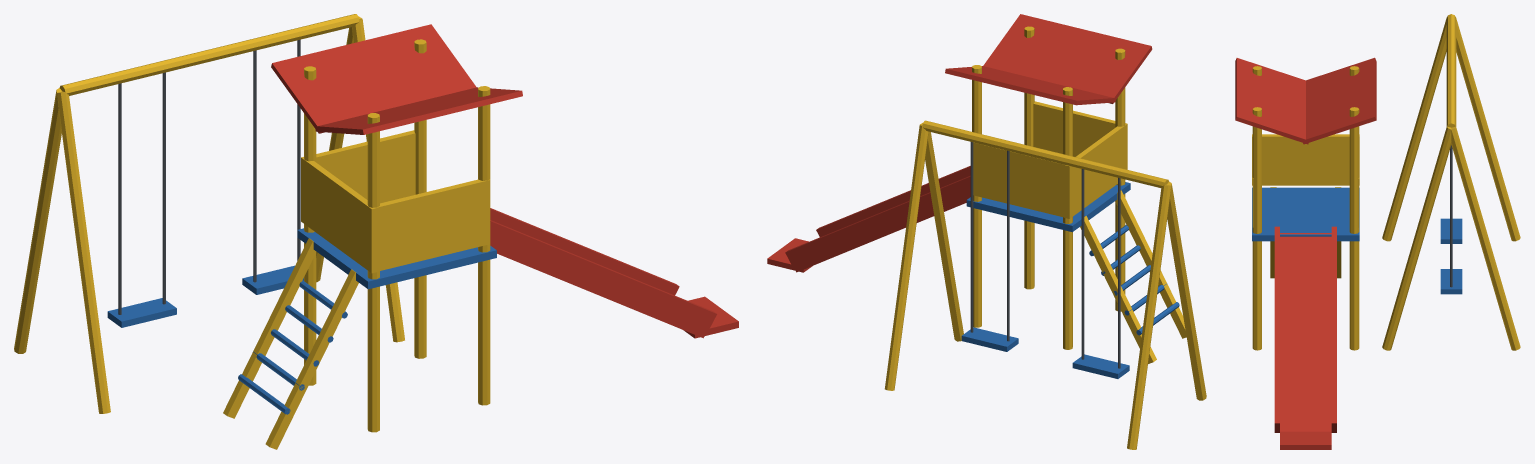
The model's file is park_playground.glb.
3 views of the same model, side by side, from view 1: azimuth 30°, elevation 25°; view 2: azimuth 150°, elevation 25°; view 3: azimuth 270°, elevation 25° (orthographic). The views are drawn at different scales.
Visible parts, largest first — view 1: Playground_SteelY, Playground_Slide, Playground_Frame, Playground_SteelD; view 2: Playground_SteelY, Playground_Slide, Playground_Frame, Playground_SteelD; view 3: Playground_Slide, Playground_SteelY, Playground_Frame, Playground_SteelD.
Boxes of the visible parts, box(x1,y1,x2,y2) form: Playground_SteelY: box(14, 14, 490, 449); Playground_Slide: box(271, 24, 738, 338); Playground_Frame: box(107, 228, 496, 414); Playground_SteelD: box(118, 39, 300, 314); Playground_SteelY: box(884, 26, 1206, 449); Playground_Slide: box(767, 14, 1152, 272); Playground_Frame: box(961, 182, 1179, 378); Playground_SteelD: box(970, 142, 1120, 368); Playground_Slide: box(1235, 57, 1376, 449); Playground_SteelY: box(1252, 14, 1520, 350); Playground_Frame: box(1252, 187, 1462, 294); Playground_SteelD: box(1450, 145, 1452, 287).
Size of the model in its own units: 0.4644 by 0.2502 by 0.2648.
